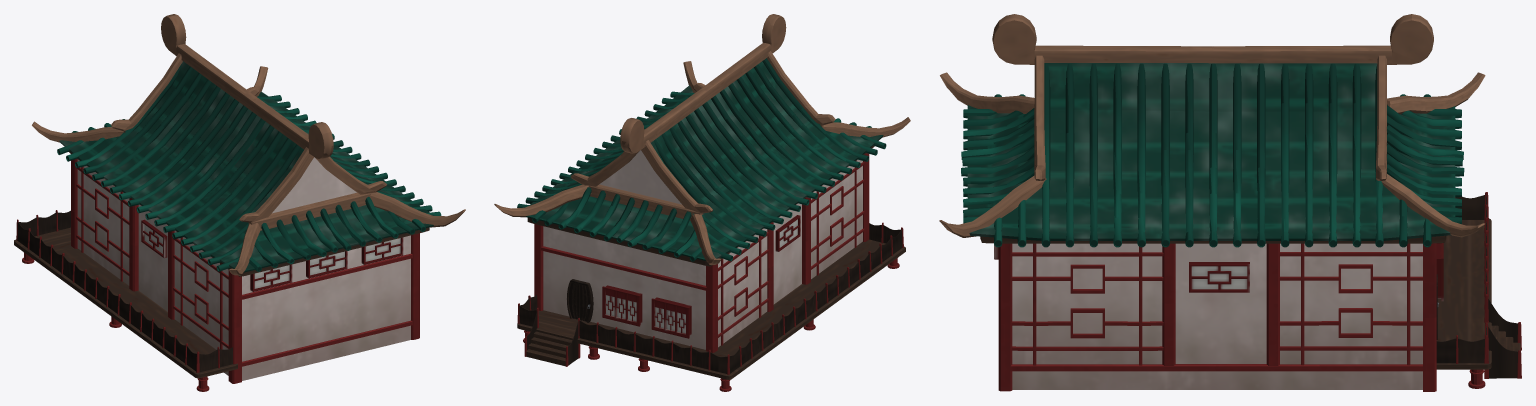
File: Building05.fbx
3 views of the same model, side by side, from view 1: azimuth 30°, elevation 25°; view 2: azimuth 150°, elevation 25°; view 3: azimuth 270°, elevation 25° (orthographic). The views are drawn at different scales.
Parts seen in each view (by area): view 1: Building05_mesh_mesh; view 2: Building05_mesh_mesh; view 3: Building05_mesh_mesh.
Part boxes in pixels (bbox=[...]): Building05_mesh_mesh: bbox=[14, 14, 465, 391]; Building05_mesh_mesh: bbox=[494, 14, 910, 391]; Building05_mesh_mesh: bbox=[939, 14, 1521, 391].
Size of the model in its own units: 134 by 120 by 200.
1 material, 1 textured.
